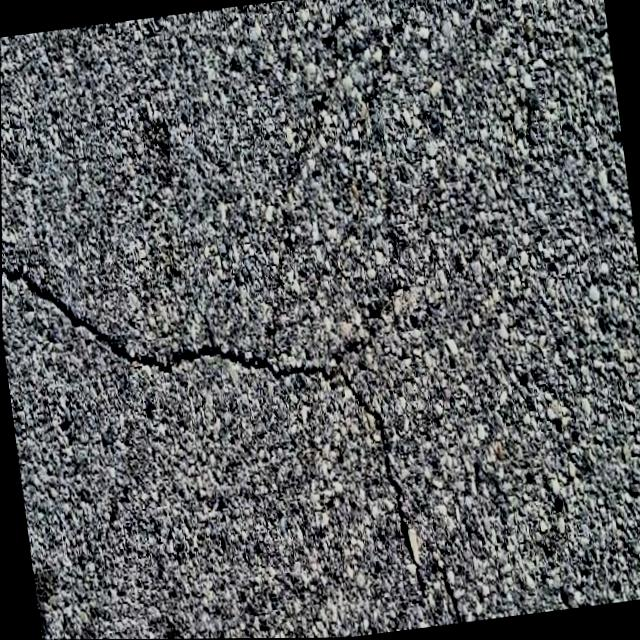Clogged Drains: (2, 266, 326, 377)
